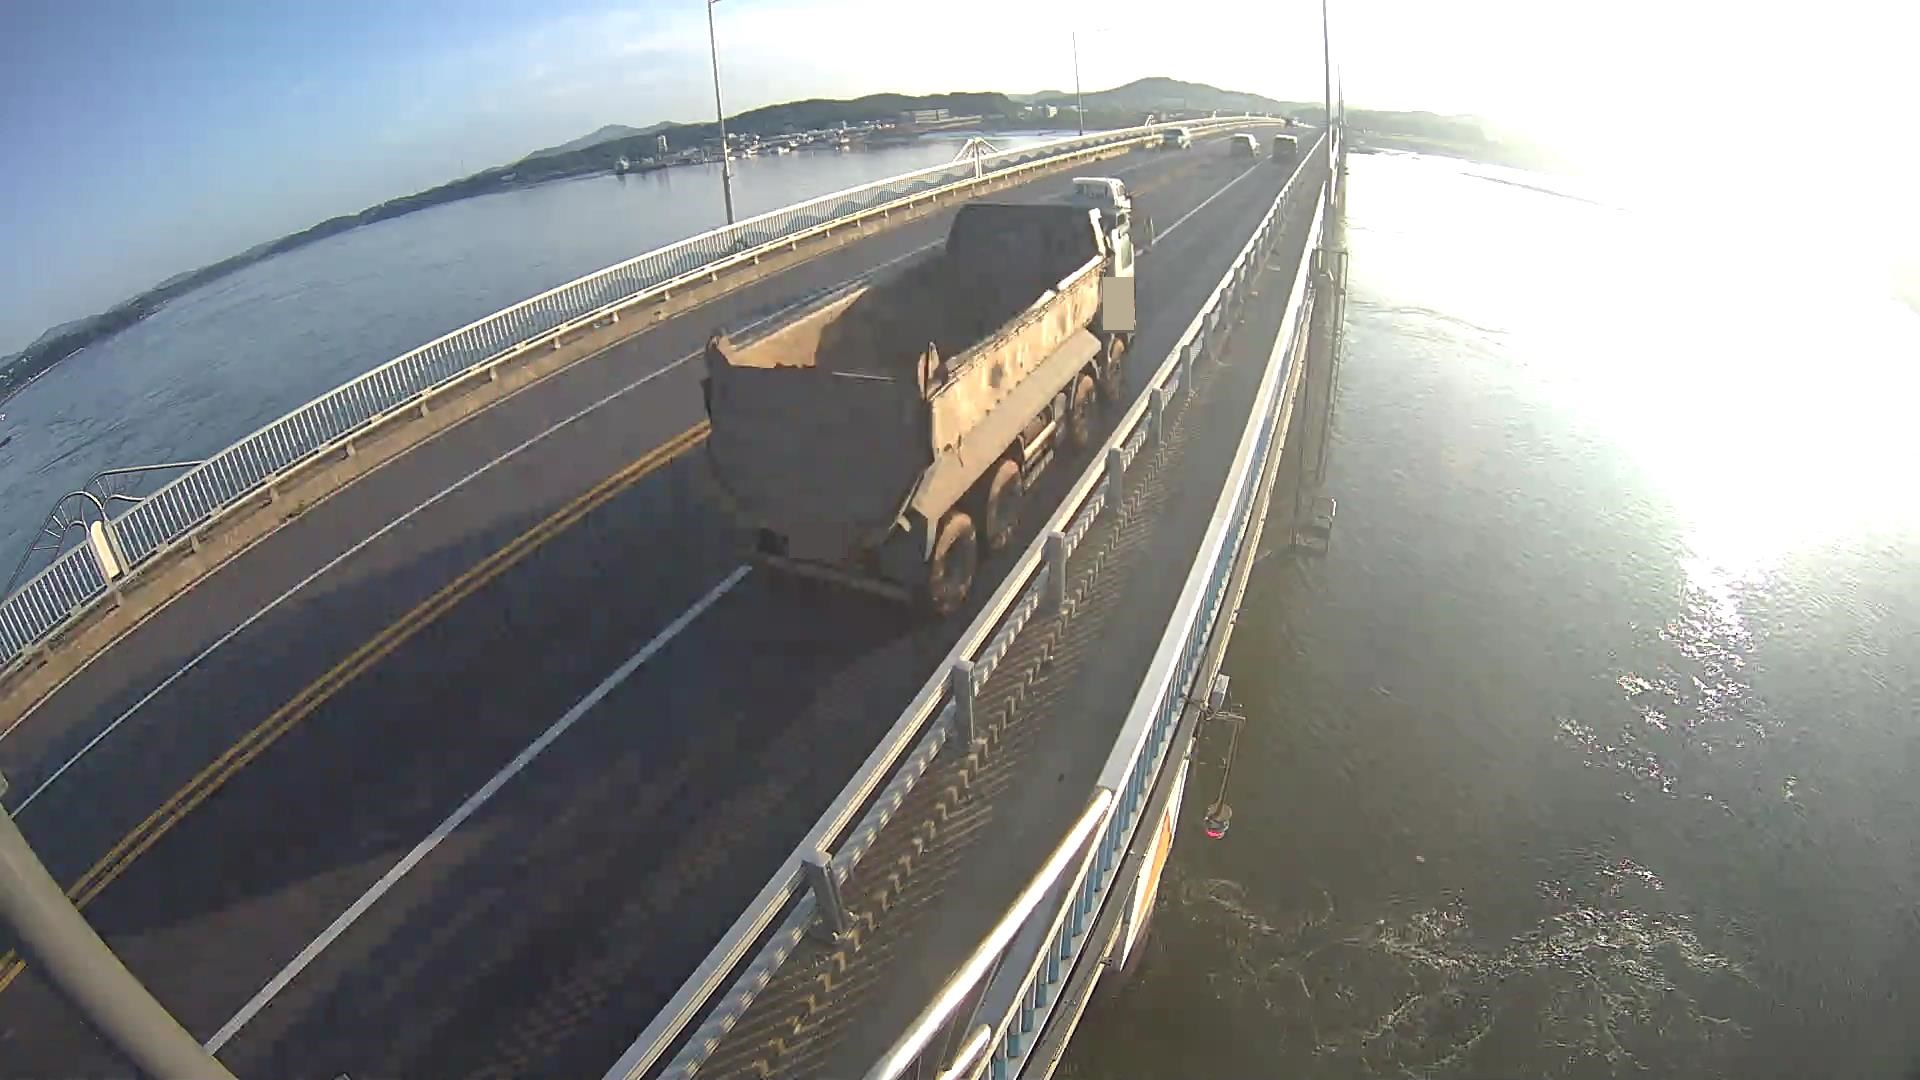정상차량: (699, 201, 1154, 622)
